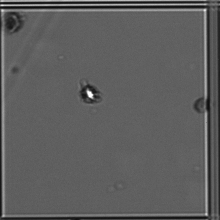Dead Cell: (1, 9, 25, 35)
Living Cell: (79, 84, 101, 103)
